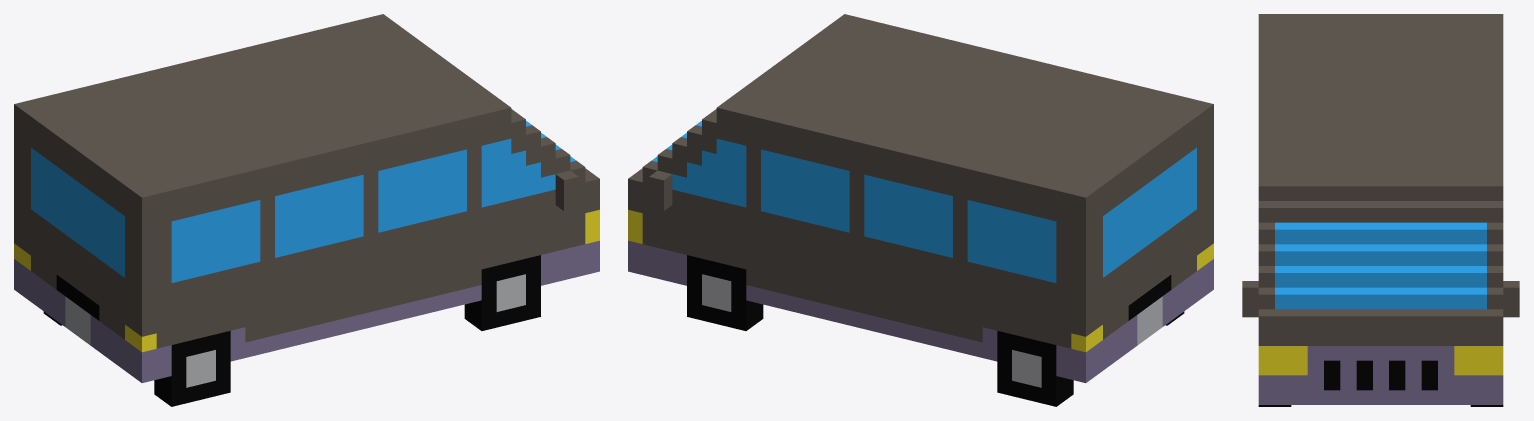
The model's file is van_e.obj.
The picture shows the model from 3 angles, left to right: view 1: azimuth 30°, elevation 25°; view 2: azimuth 150°, elevation 25°; view 3: azimuth 270°, elevation 25°; orthographic projection. The views are drawn at different scales.
Bounding box in the file's own units: 3.1 × 1.4 × 1.7.
Materials: 1 (1 with a texture image).
